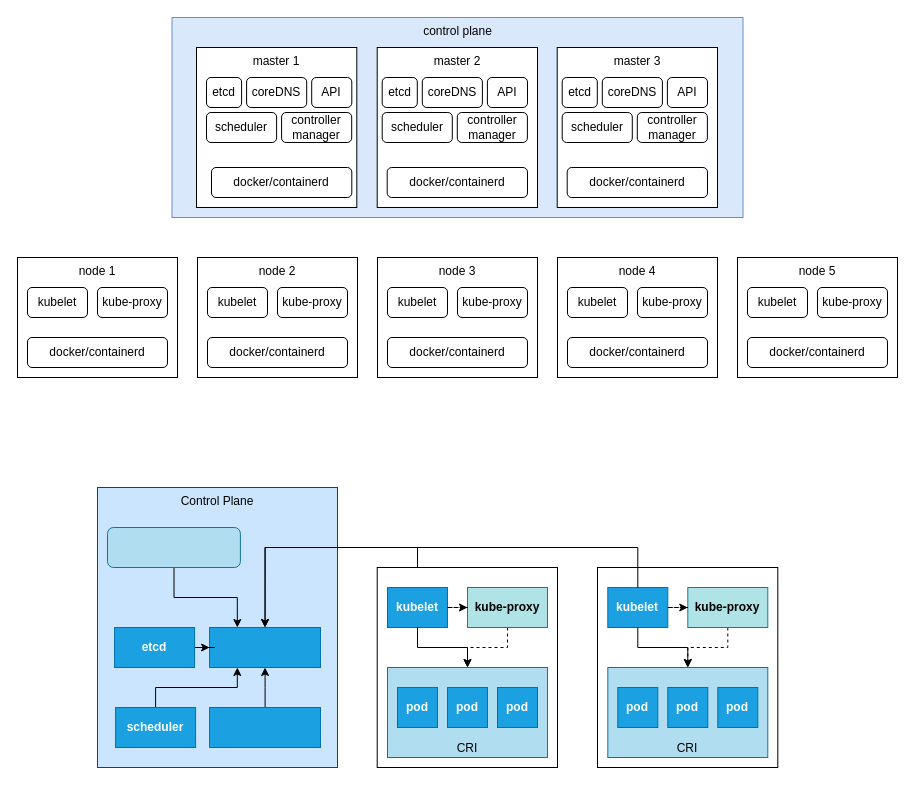
This 915x785 diagram has some shape labels left out. The centre of each missing label's shape, as x and y in pixels:
"Controler Manager" belongs at (264,727).
"coud-controler-manager" belongs at (173,547).
"kube-api-server" belongs at (264,647).
